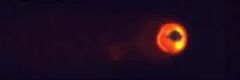keyhole: (166, 28, 187, 44)
